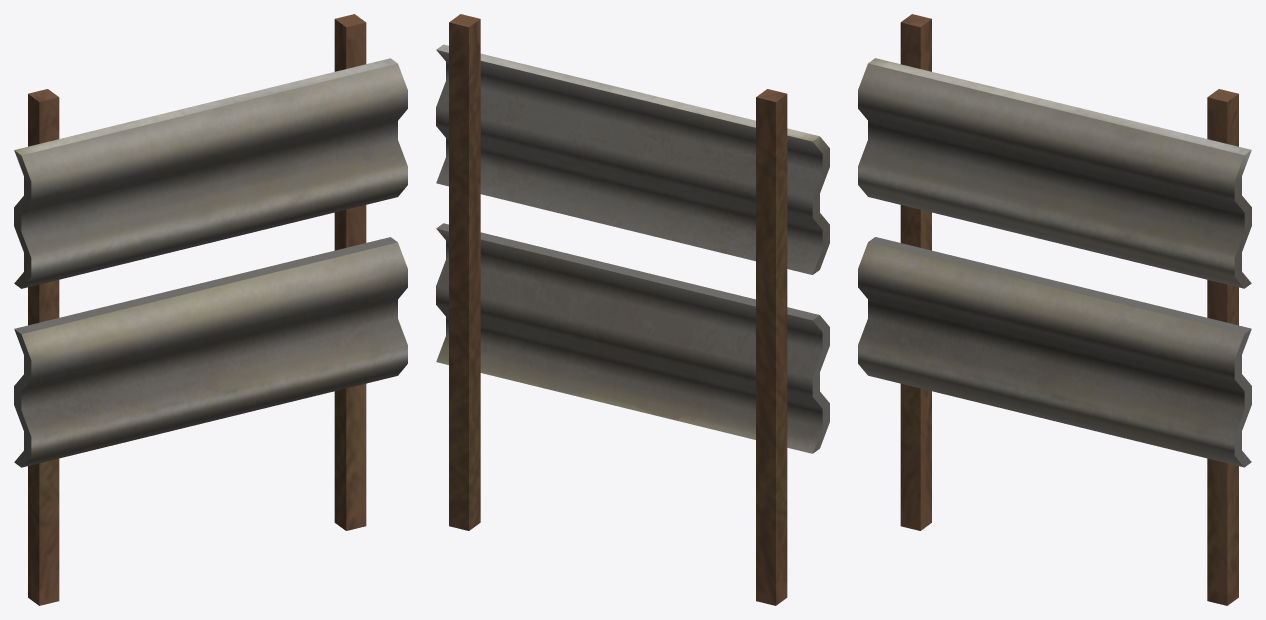
Rendered from vangrail.fbx.
3 views of the same model, side by side, from view 1: azimuth 30°, elevation 25°; view 2: azimuth 150°, elevation 25°; view 3: azimuth 330°, elevation 25° (orthographic).
Visible parts, largest first — view 1: pCube5; view 2: pCube5; view 3: pCube5.
Part boxes in pixels (x1,y1,x2,y2): pCube5: (14, 14, 407, 605); pCube5: (436, 14, 829, 605); pCube5: (858, 14, 1251, 605).
Size of the model in its own units: 3.68 by 4.71 by 0.486.
